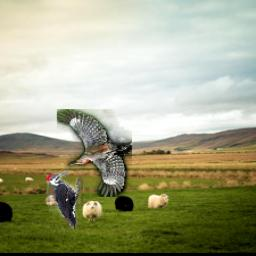Woodpecker: (57, 109, 132, 197), (47, 171, 83, 229)
